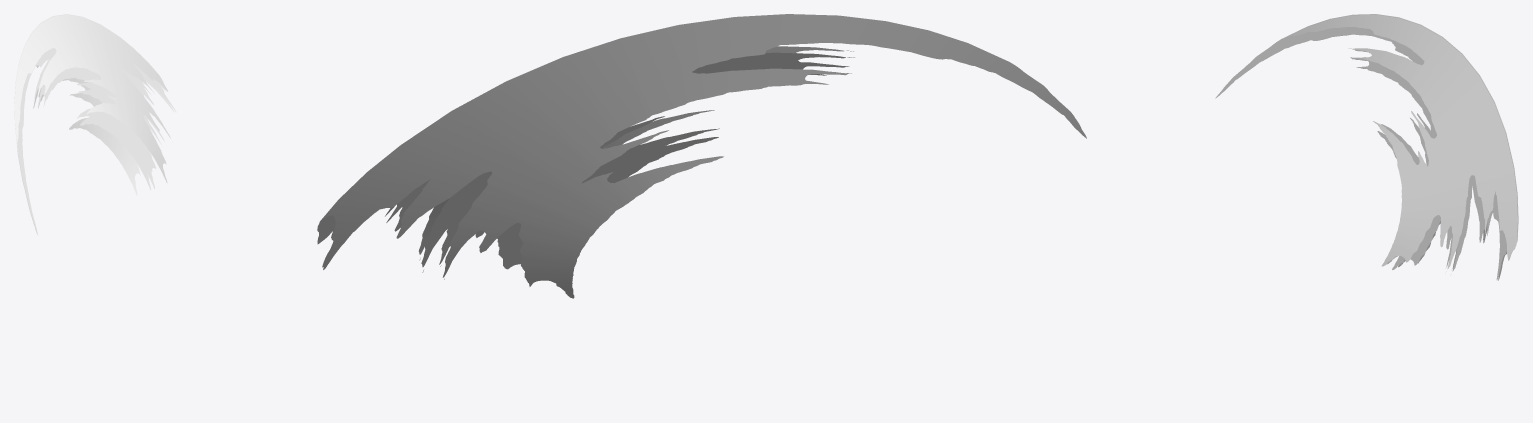
The model's file is fx_cookie0511_skill01.fbx.
The picture shows the model from 3 angles, left to right: view 1: azimuth 30°, elevation 25°; view 2: azimuth 150°, elevation 25°; view 3: azimuth 270°, elevation 25°; orthographic projection. The views are drawn at different scales.
Visible parts, largest first — view 1: L_scratch2_alpha, L_scratch1_add; view 2: L_scratch2_alpha, L_scratch1_add; view 3: L_scratch2_alpha, L_scratch1_add.
Part boxes in pixels (bbox=[...]): L_scratch2_alpha: bbox=[14, 14, 174, 234]; L_scratch1_add: bbox=[14, 14, 176, 235]; L_scratch2_alpha: bbox=[317, 14, 1086, 298]; L_scratch1_add: bbox=[317, 52, 854, 272]; L_scratch2_alpha: bbox=[1219, 14, 1518, 280]; L_scratch1_add: bbox=[1215, 14, 1518, 280].
Size of the model in its own units: 517 by 433 by 493.
2 materials, 2 textured.
